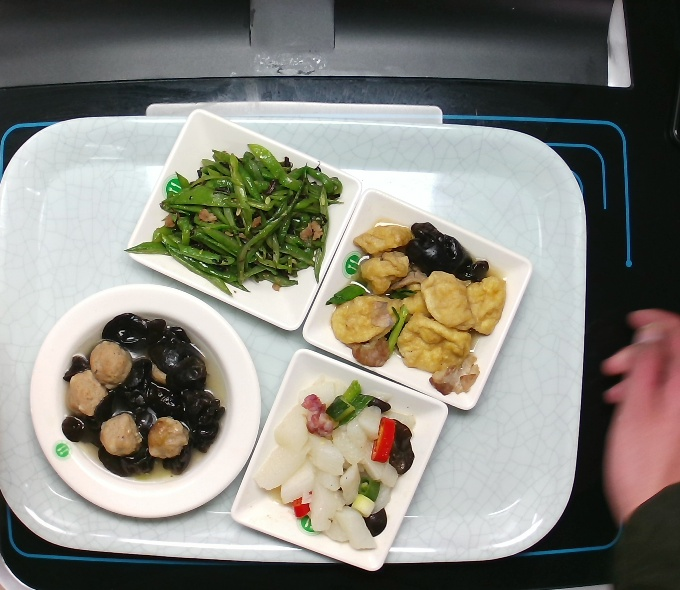wcq-MuErWanZi: (54, 306, 238, 488)
wcq-ShanYao: (249, 371, 421, 556)
wcq-SiJiDouChaoRou: (114, 137, 351, 303)
wcq-YouPaoRouPian: (320, 213, 514, 399)
